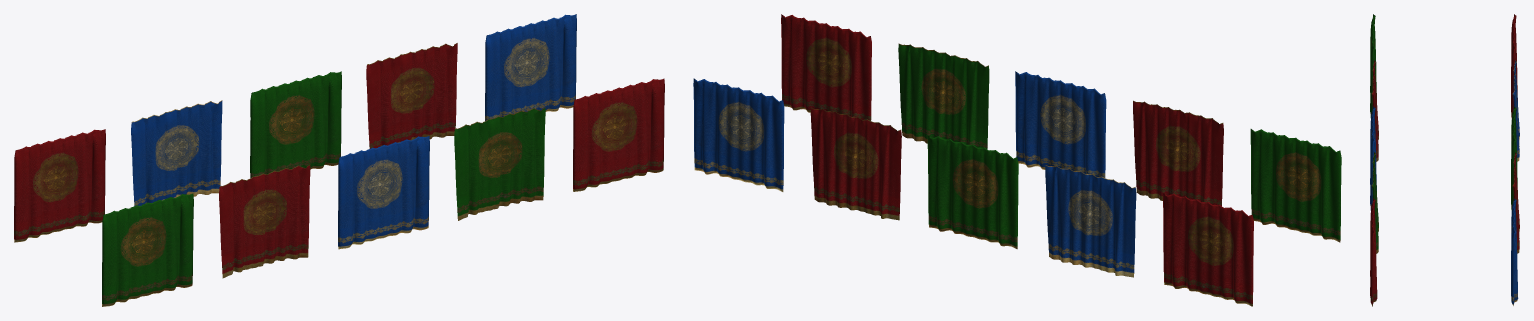
Rendered from curtain.gltf.
3 views of the same model, side by side, from view 1: azimuth 30°, elevation 25°; view 2: azimuth 150°, elevation 25°; view 3: azimuth 270°, elevation 25° (orthographic). The views are drawn at different scales.
Visible parts, largest first — view 1: Mesh_0.019, Mesh_0.020, Mesh_0.018; view 2: Mesh_0.019, Mesh_0.018, Mesh_0.020; view 3: Mesh_0.019, Mesh_0.018, Mesh_0.020.
Boxes of the visible parts, bbox=[...] form: Mesh_0.019: bbox=[14, 43, 664, 278]; Mesh_0.020: bbox=[102, 71, 545, 306]; Mesh_0.018: bbox=[131, 14, 576, 249]; Mesh_0.019: bbox=[781, 14, 1253, 306]; Mesh_0.018: bbox=[693, 71, 1136, 277]; Mesh_0.020: bbox=[898, 43, 1341, 249]; Mesh_0.019: bbox=[1370, 14, 1519, 306]; Mesh_0.018: bbox=[1370, 60, 1519, 305]; Mesh_0.020: bbox=[1370, 14, 1517, 253].
Size of the model in its own units: 14.13 by 2.27 by 4.07.
Materials: 3 (3 with a texture image).
